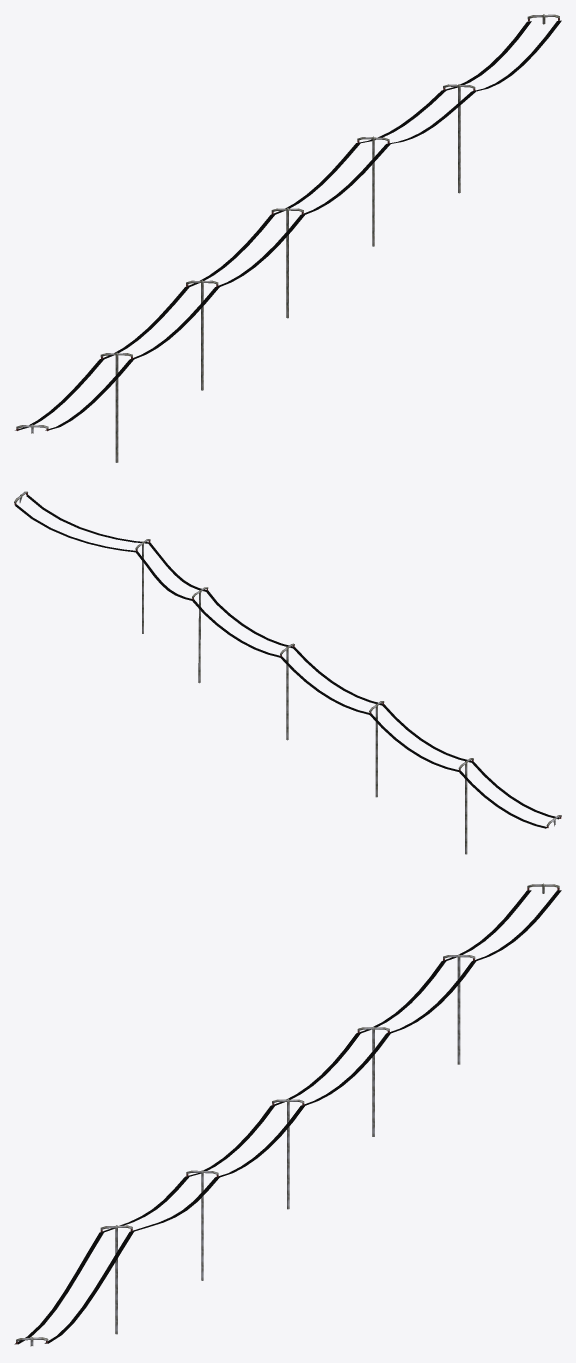
Rendered from M11B_ElectricalPylon.glb.
3 views of the same model, one above another, from view 1: azimuth 90°, elevation 25°; view 2: azimuth 150°, elevation 25°; view 3: azimuth 270°, elevation 25° (orthographic). The views are drawn at different scales.
Parts seen in each view (by area): view 1: M11B_ELECTRICALPYLON; view 2: M11B_ELECTRICALPYLON; view 3: M11B_ELECTRICALPYLON.
Boxes of the visible parts, bbox=[...] form: M11B_ELECTRICALPYLON: bbox=[15, 14, 561, 462]; M11B_ELECTRICALPYLON: bbox=[14, 491, 561, 854]; M11B_ELECTRICALPYLON: bbox=[14, 883, 561, 1346].
Size of the model in its own units: 95.91 by 11.36 by 51.26.
3 materials, 2 textured.
